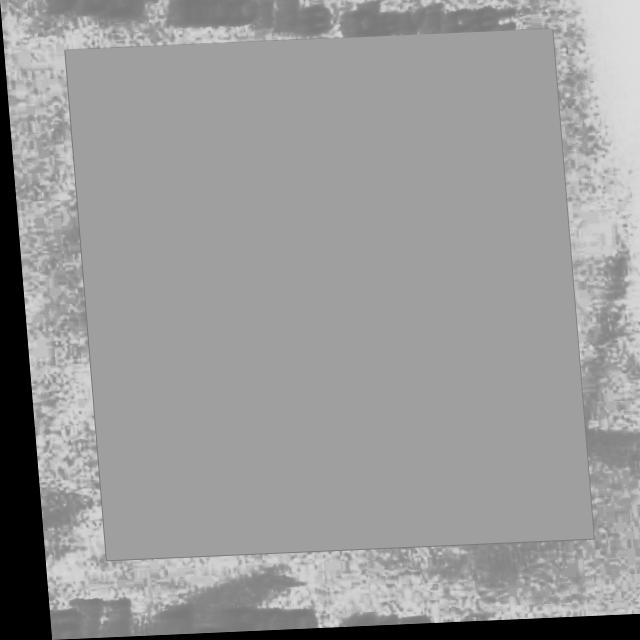qr_code: (64, 34, 584, 561)
